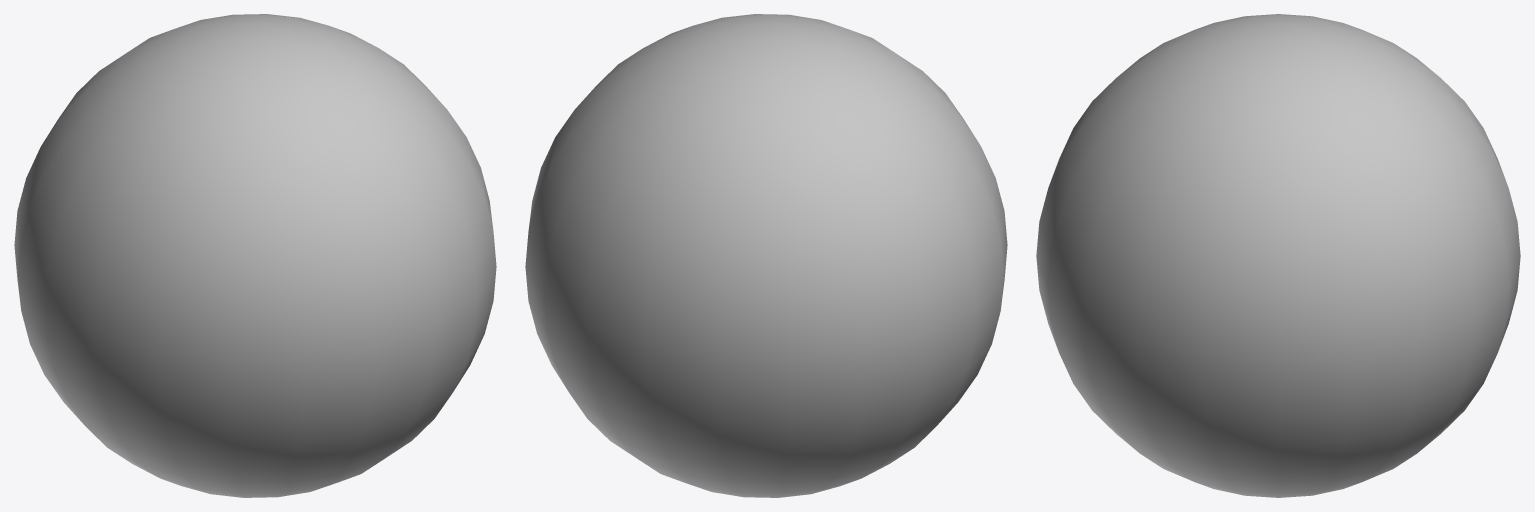
The model's file is Point_Light.glb.
3 views of the same model, side by side, from view 1: azimuth 30°, elevation 25°; view 2: azimuth 150°, elevation 25°; view 3: azimuth 270°, elevation 25° (orthographic).
Visible parts, largest first — view 1: start_prop_sphere_mesh.2; view 2: start_prop_sphere_mesh.2; view 3: start_prop_sphere_mesh.2.
Boxes of the visible parts, x1,y1,x2,y2 form: start_prop_sphere_mesh.2: [14, 14, 496, 497]; start_prop_sphere_mesh.2: [525, 14, 1007, 497]; start_prop_sphere_mesh.2: [1036, 14, 1520, 497].
Bounding box in the file's own units: 0.9886 × 0.9886 × 0.9886.
Materials: 1 (1 with a texture image).
